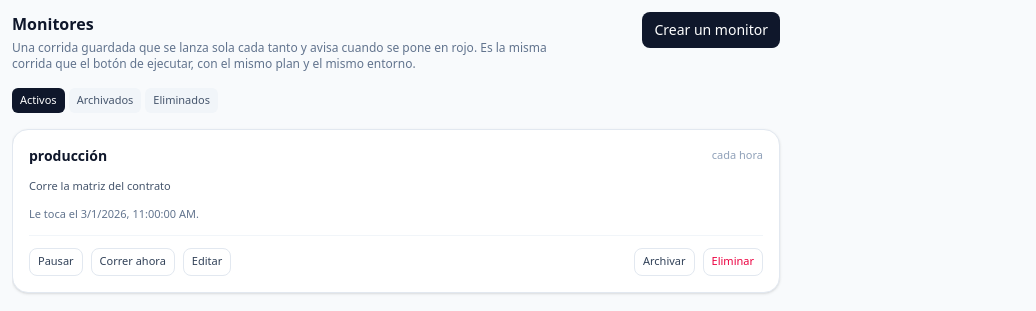
Test case: los botones de la tarjeta › un fallo al pausar se dice
This screenshot has width=1036, height=311.
Step 1. Click the button "Pausar" → click(56, 262), box 29,248 -> 83,276
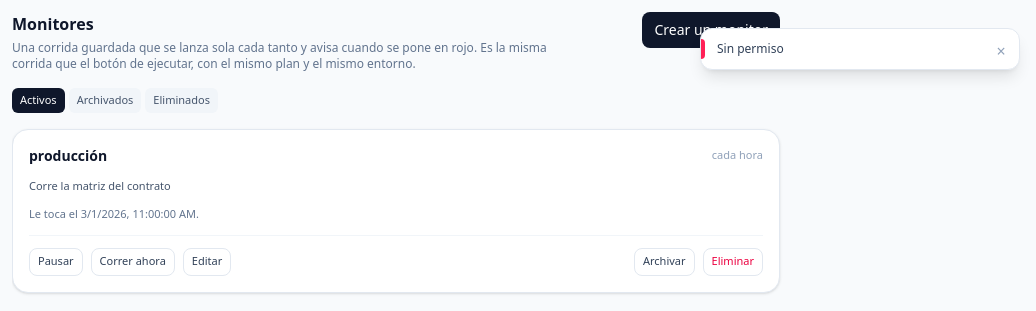
expect the text "Sin permiso" is shown: met, box 717,40 -> 784,57
